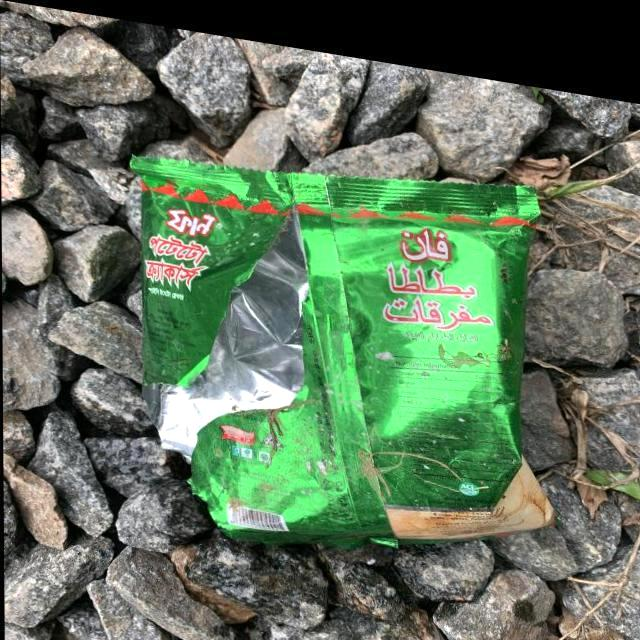packet: (138, 134, 567, 548)
